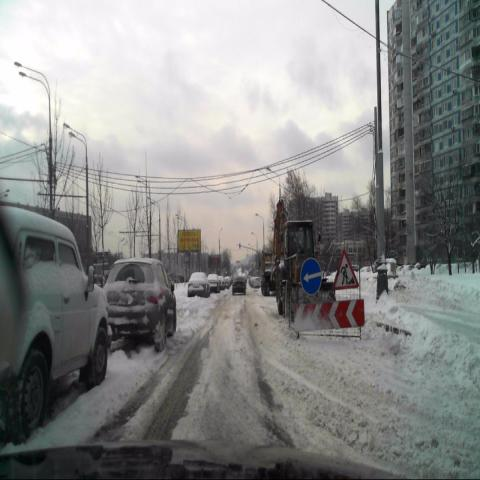1_25: (333, 247, 360, 290)
4_1_2_2: (301, 258, 322, 296)
